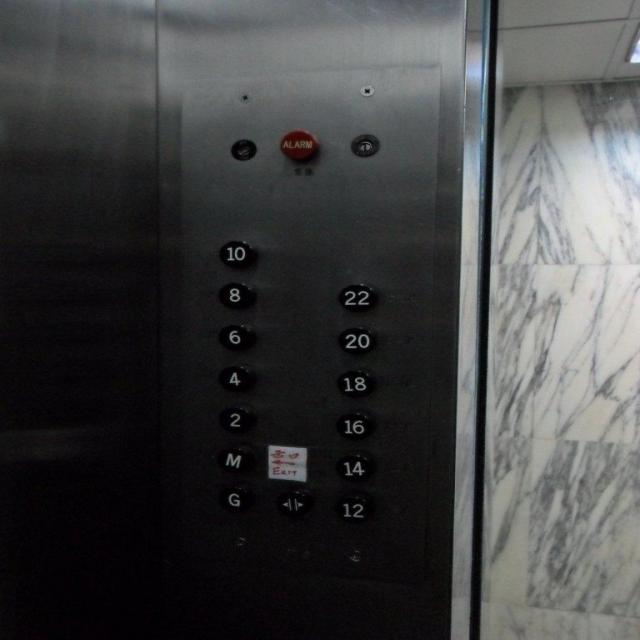10: (218, 239, 252, 268)
12: (332, 492, 371, 522)
14: (334, 452, 371, 482)
16: (334, 410, 374, 441)
18: (335, 368, 375, 398)
2: (216, 405, 252, 432)
20: (335, 324, 377, 355)
22: (336, 280, 377, 312)
4: (216, 365, 253, 393)
6: (217, 322, 253, 350)
8: (218, 281, 254, 308)
G: (218, 485, 250, 513)
M: (217, 445, 250, 471)
keyhole: (226, 138, 258, 161), (350, 132, 379, 157)
open: (272, 490, 310, 517)
text_ALARM: (277, 127, 320, 162)
